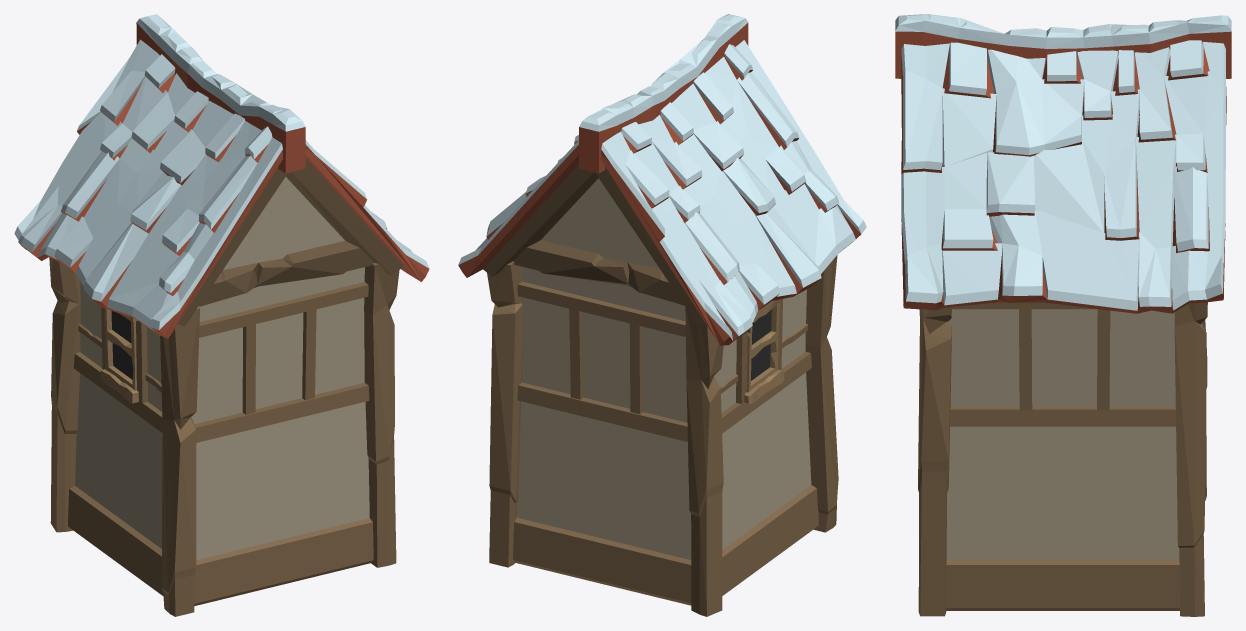
File: SM_Bld_House_RoomTall_04_Snow.gltf
The picture shows the model from 3 angles, left to right: view 1: azimuth 30°, elevation 25°; view 2: azimuth 150°, elevation 25°; view 3: azimuth 270°, elevation 25°; orthographic projection. The views are drawn at different scales.
Parts seen in each view (by area): view 1: SM_Bld_House_RoomTall_04_Snow; view 2: SM_Bld_House_RoomTall_04_Snow; view 3: SM_Bld_House_RoomTall_04_Snow.
Part boxes in pixels (x1,y1,x2,y2): SM_Bld_House_RoomTall_04_Snow: (14, 14, 429, 616); SM_Bld_House_RoomTall_04_Snow: (458, 14, 866, 616); SM_Bld_House_RoomTall_04_Snow: (895, 14, 1231, 616).
Bounding box in the file's own units: 3.6 × 5.75 × 3.26.
Materials: 1 (1 with a texture image).
